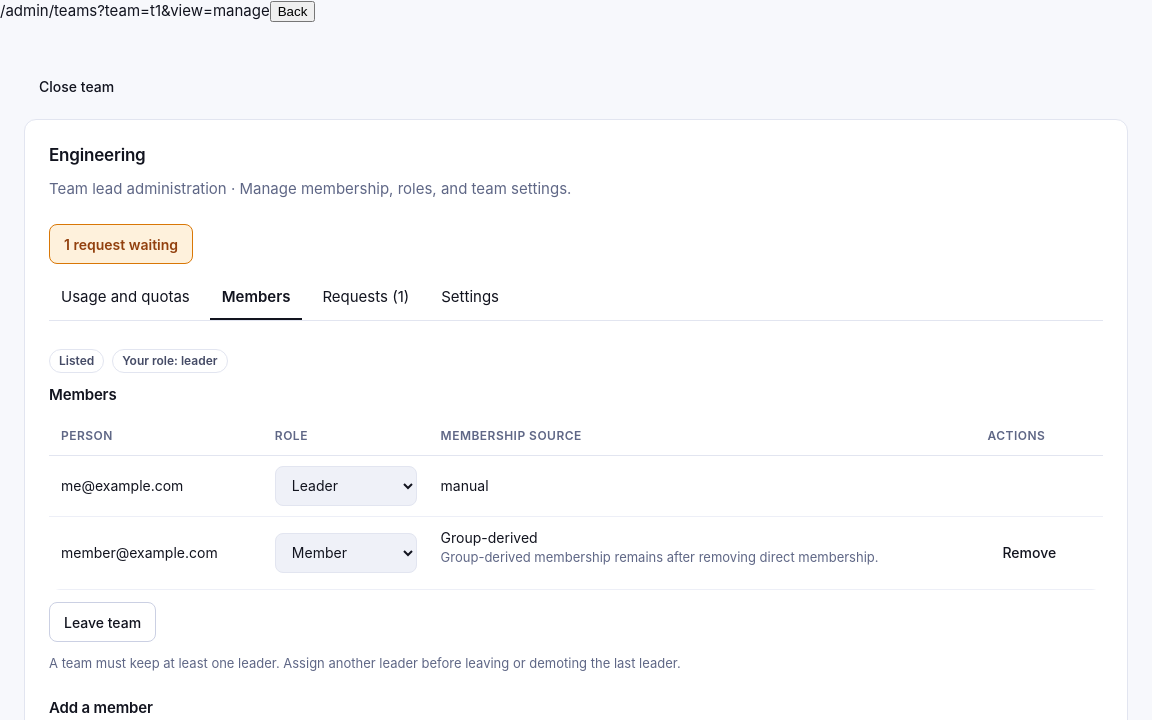
Scenario: confirms removal and explains retained group access
Click the button with aria-label "Remove member@example.com": (1029, 553) [987, 533, 1071, 573]
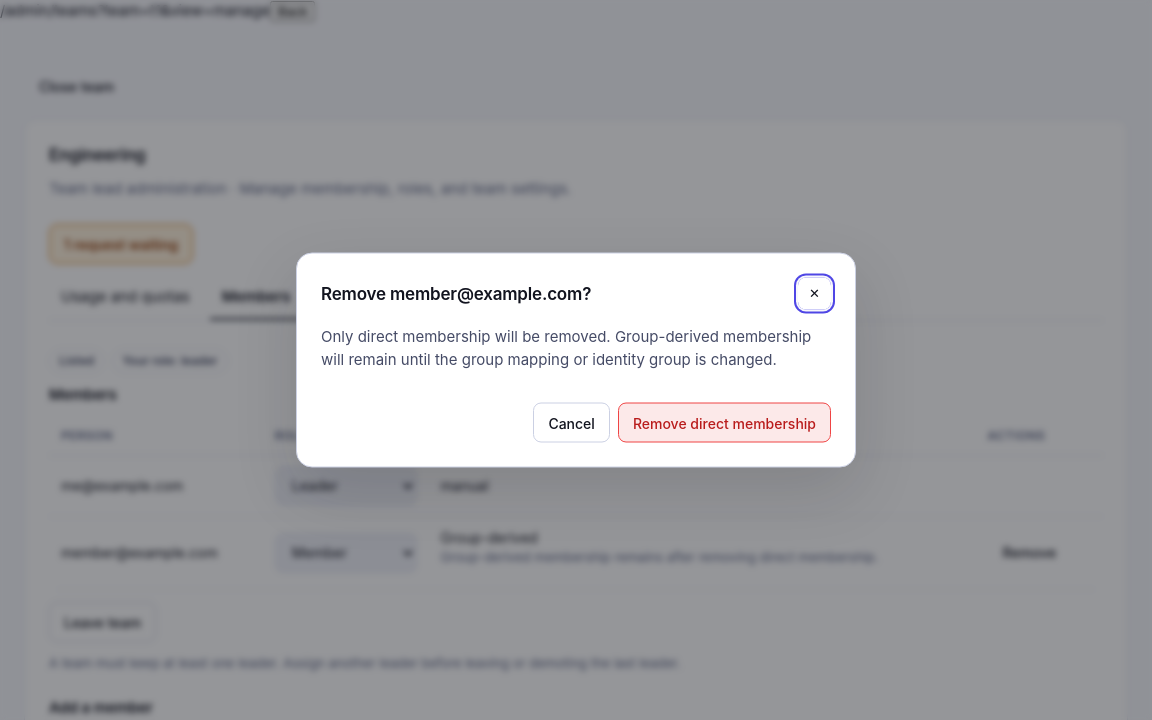
Expected: the text "Only direct membership will be removed" is shown, [321, 326, 811, 368]
Click the button "Remove direct membership": (724, 422) [618, 402, 831, 442]
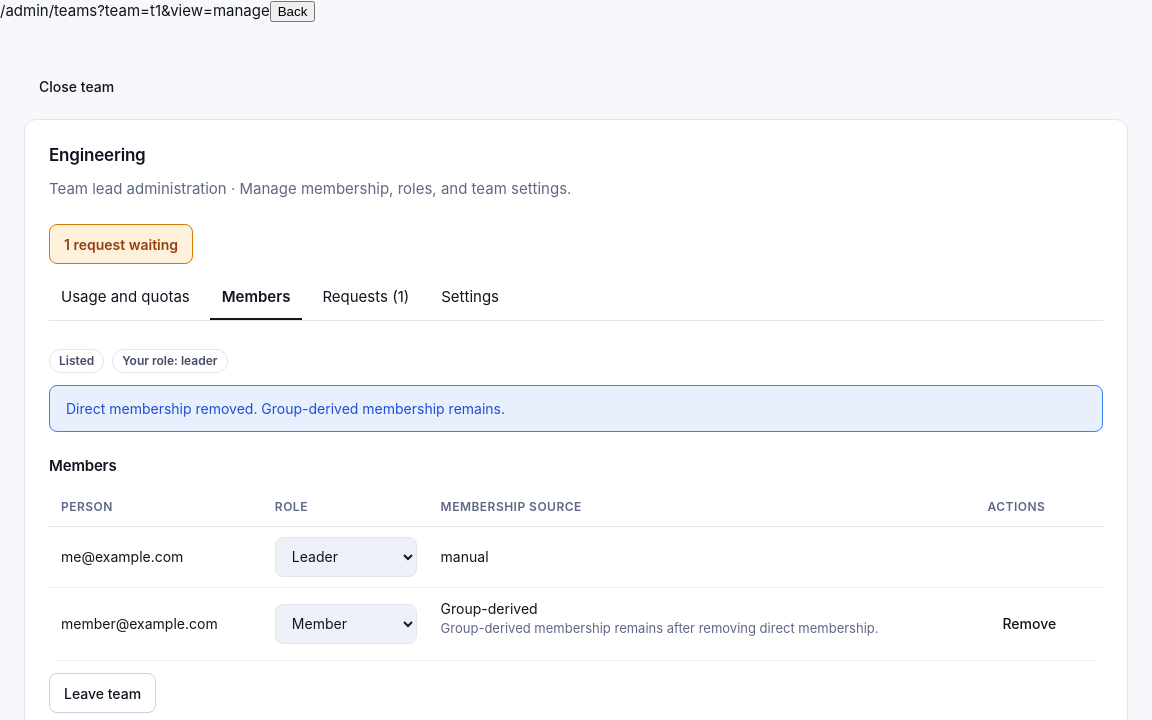
Expected: the text "Direct membership removed. Group-derived membership remains." is shown, [49, 385, 1103, 432]
